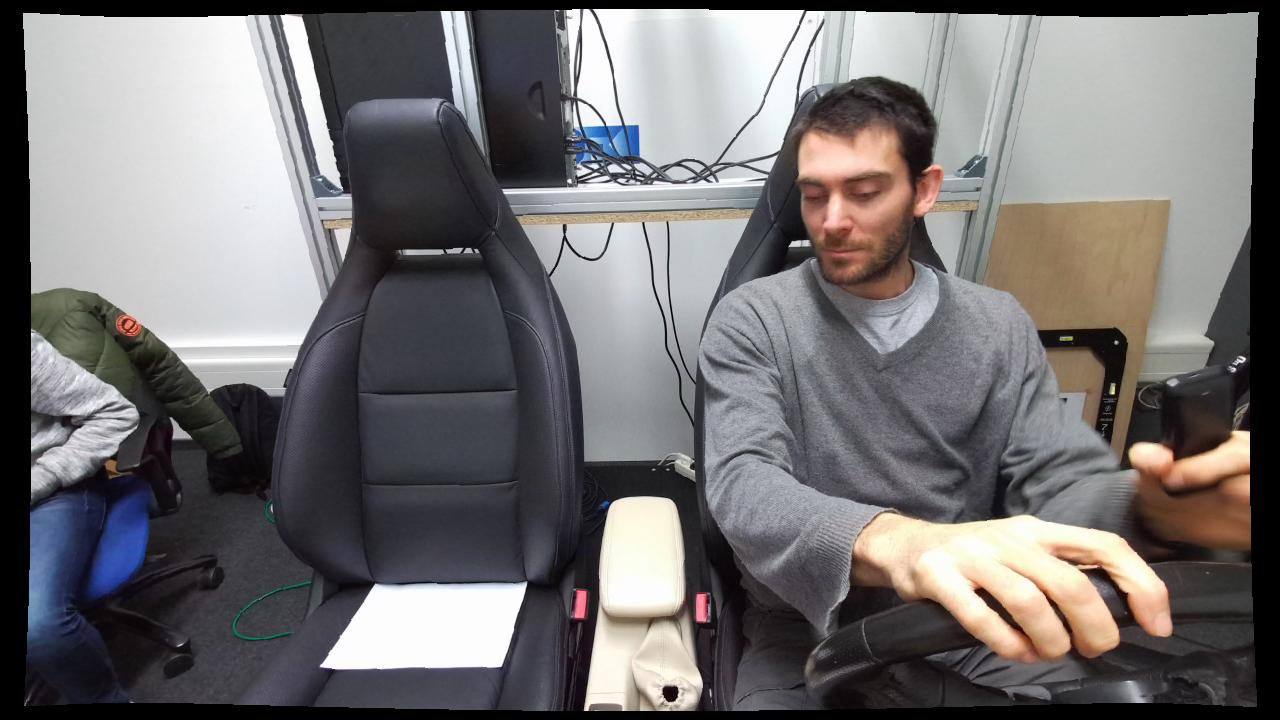Distracted: (702, 78, 1087, 708)
PhoneUse: (1118, 347, 1249, 507)
